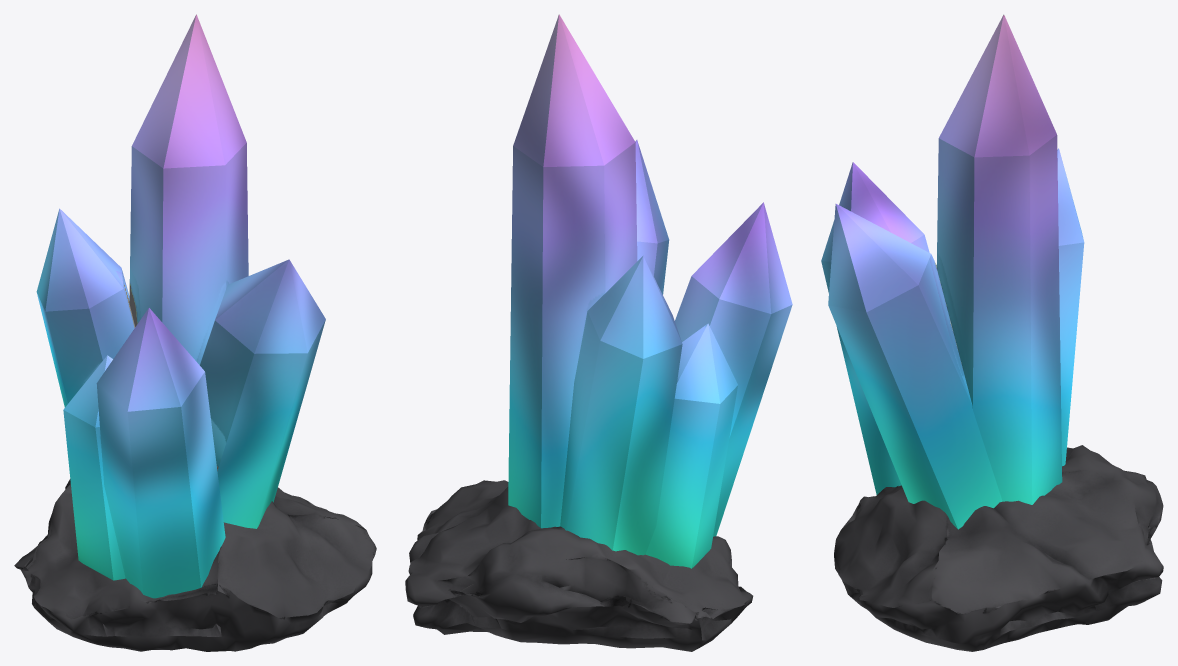
File: cristal_aurora.fbx
The picture shows the model from 3 angles, left to right: view 1: azimuth 30°, elevation 25°; view 2: azimuth 150°, elevation 25°; view 3: azimuth 270°, elevation 25°; orthographic projection. The views are drawn at different scales.
Visible parts, largest first — view 1: cristal_aurora_cristal, cristal_aurora; view 2: cristal_aurora_cristal, cristal_aurora; view 3: cristal_aurora_cristal, cristal_aurora.
Boxes of the visible parts, <box> form: cristal_aurora_cristal: <box>36,14,325,598</box>; cristal_aurora: <box>14,479,376,651</box>; cristal_aurora_cristal: <box>508,14,792,568</box>; cristal_aurora: <box>405,480,753,651</box>; cristal_aurora_cristal: <box>821,14,1084,529</box>; cristal_aurora: <box>834,445,1163,651</box>.
Bounding box in the file's own units: 2.28 × 4.02 × 2.16.
2 materials, 2 textured.
